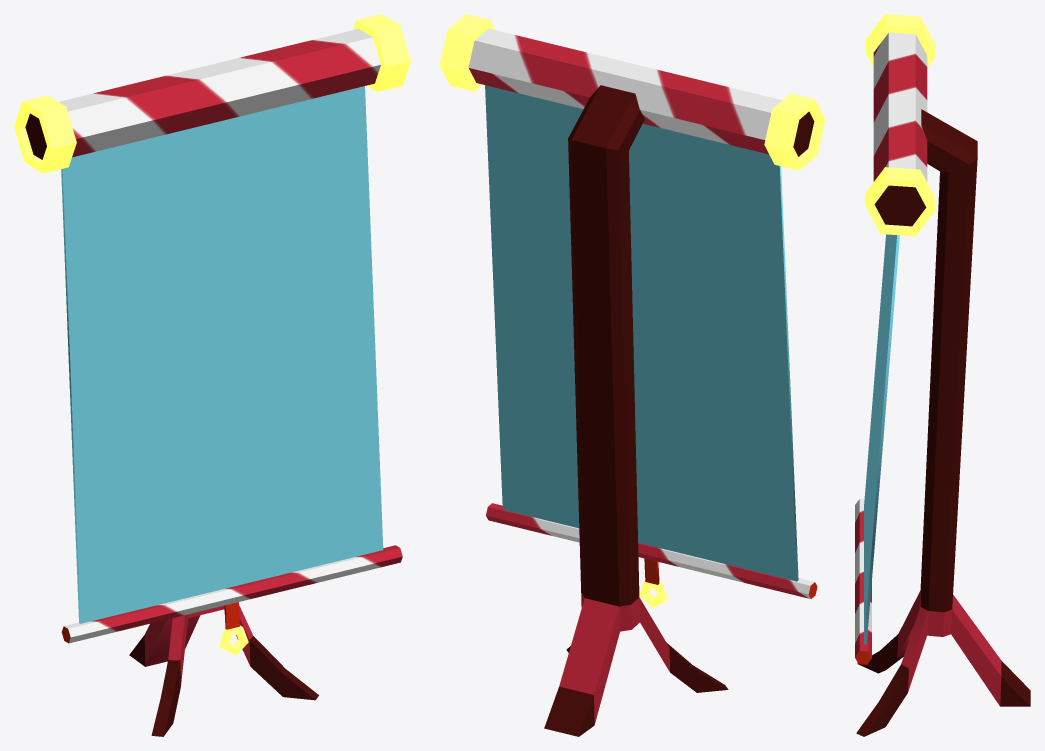
The model's file is PosterRoller_Art.fbx.
3 renders of one model, left to right at view 1: azimuth 30°, elevation 25°; view 2: azimuth 150°, elevation 25°; view 3: azimuth 270°, elevation 25°, orthographic. The views are drawn at different scales.
Parts seen in each view (by area): view 1: PosterRoller_Art; view 2: PosterRoller_Art; view 3: PosterRoller_Art.
Boxes of the visible parts, left/top/right/bottom form: PosterRoller_Art: left=14, top=14, right=410, bottom=736; PosterRoller_Art: left=439, top=14, right=825, bottom=736; PosterRoller_Art: left=854, top=14, right=1030, bottom=736.
Size of the model in its own units: 3.01 by 5.12 by 1.36.
